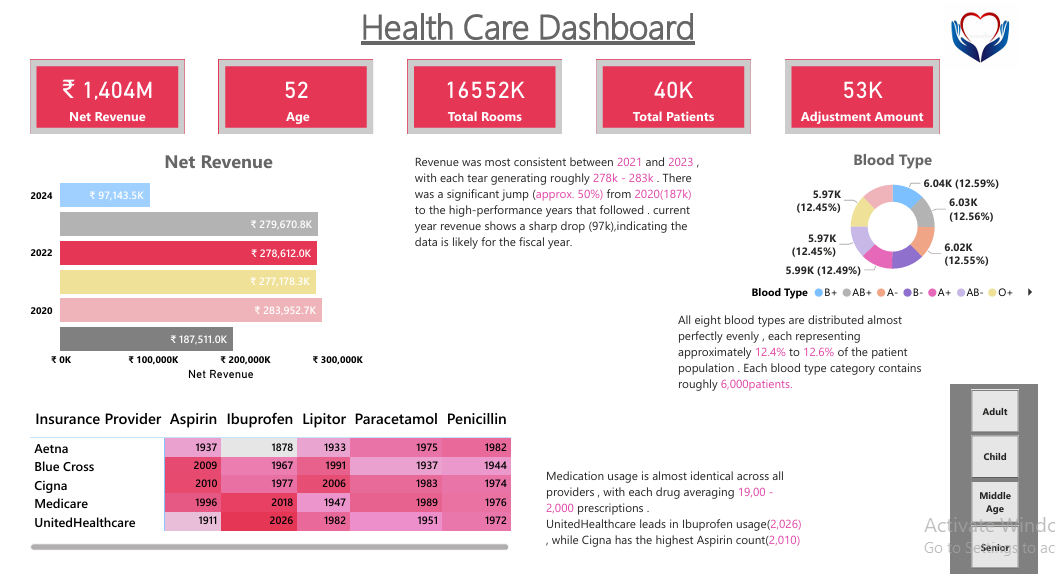

The page's visual inventory and layout, read from the dashboard file:
{"tool":"powerbi","page":{"name":"Healthcare2","canvas":[1280,720],"ordinal":1},"visuals":[{"type":"textbox","box":[381.3,0,522.4,94.1],"z":0},{"type":"image","box":[1137.2,0,142.8,94.1],"z":1000},{"type":"card","fields":{"Values":["healthcare_dataset.Net Revenue"]},"box":[20.2,77.3,193.2,92.4],"z":2000},{"type":"card","fields":{"Values":["Sum(healthcare_dataset.Room Number)"]},"box":[492.2,77.3,193.2,92.4],"z":3000},{"type":"card","fields":{"Values":["Avg(healthcare_dataset.Age)"]},"box":[256.2,77.3,193.2,92.4],"z":4000},{"type":"card","fields":{"Values":["healthcare_dataset.Total Patients"]},"box":[728.2,77.3,193.2,92.4],"z":5000},{"type":"card","fields":{"Values":["healthcare_dataset.Adjustment Amount"]},"box":[964.2,77.3,193.2,92.4],"z":6000},{"type":"barChart","title":"Net Revenue","fields":{"Category":["healthcare_dataset.Date of Admission.Variation.Date Hierarchy.Year"],"Y":["healthcare_dataset.Net Revenue"]},"box":[14.6,188.8,481.5,294.1],"z":7000,"group":"g1"},{"type":"slicer","fields":{"Values":["healthcare_dataset.Age Group"]},"box":[1170.7,482.9,109.8,237.1],"z":7000},{"type":"pivotTable","fields":{"Values":["Count(healthcare_dataset.Name)"],"Rows":["healthcare_dataset.Insurance Provider"],"Columns":["healthcare_dataset.Medication"]},"box":[14.6,506.3,610.2,190.2],"z":8000,"group":"g3"},{"type":"group","id":"g1","title":"Group 1","box":[14.6,188.8,851.7,294.1],"z":9000},{"type":"donutChart","title":" Blood Type","fields":{"Category":["healthcare_dataset.Blood Type"],"Y":["Count(healthcare_dataset.Name)"]},"box":[917.6,188.8,362.9,197.6],"z":9000,"group":"g2"},{"type":"group","id":"g2","title":"Group 2","box":[825.4,188.8,455.1,317.6],"z":10000},{"type":"group","id":"g3","title":"Group 3","box":[14.6,506.3,976.1,190.2],"z":11000},{"type":"textbox","box":[496.1,188.8,370.2,147.8],"z":12000,"group":"g1"},{"type":"textbox","box":[825.4,386.4,332.2,120],"z":12001,"group":"g2"},{"type":"textbox","box":[660,582.4,330.7,114.1],"z":12002,"group":"g3"}]}

Visuals, with their boxes in screenshot pixels (x1, y1, x2, y2), scaled from the page's 1280x720 canvas onto the 1055x584 screenshot:
textbox: box(314, 0, 745, 76)
image: box(937, 0, 1054, 76)
card - healthcare_dataset.Net Revenue: box(17, 63, 176, 138)
card - Sum(healthcare_dataset.Room Number): box(406, 63, 565, 138)
card - Avg(healthcare_dataset.Age): box(211, 63, 370, 138)
card - healthcare_dataset.Total Patients: box(600, 63, 759, 138)
card - healthcare_dataset.Adjustment Amount: box(795, 63, 954, 138)
"Net Revenue" barChart: box(12, 153, 409, 392)
slicer - healthcare_dataset.Age Group: box(965, 392, 1054, 583)
pivotTable - Count(healthcare_dataset.Name) x healthcare_dataset.Insurance Provider: box(12, 411, 515, 565)
"Group 1" group: box(12, 153, 714, 392)
" Blood Type" donutChart: box(756, 153, 1054, 313)
"Group 2" group: box(680, 153, 1054, 411)
"Group 3" group: box(12, 411, 817, 565)
textbox: box(409, 153, 714, 273)
textbox: box(680, 313, 954, 411)
textbox: box(544, 472, 817, 565)
